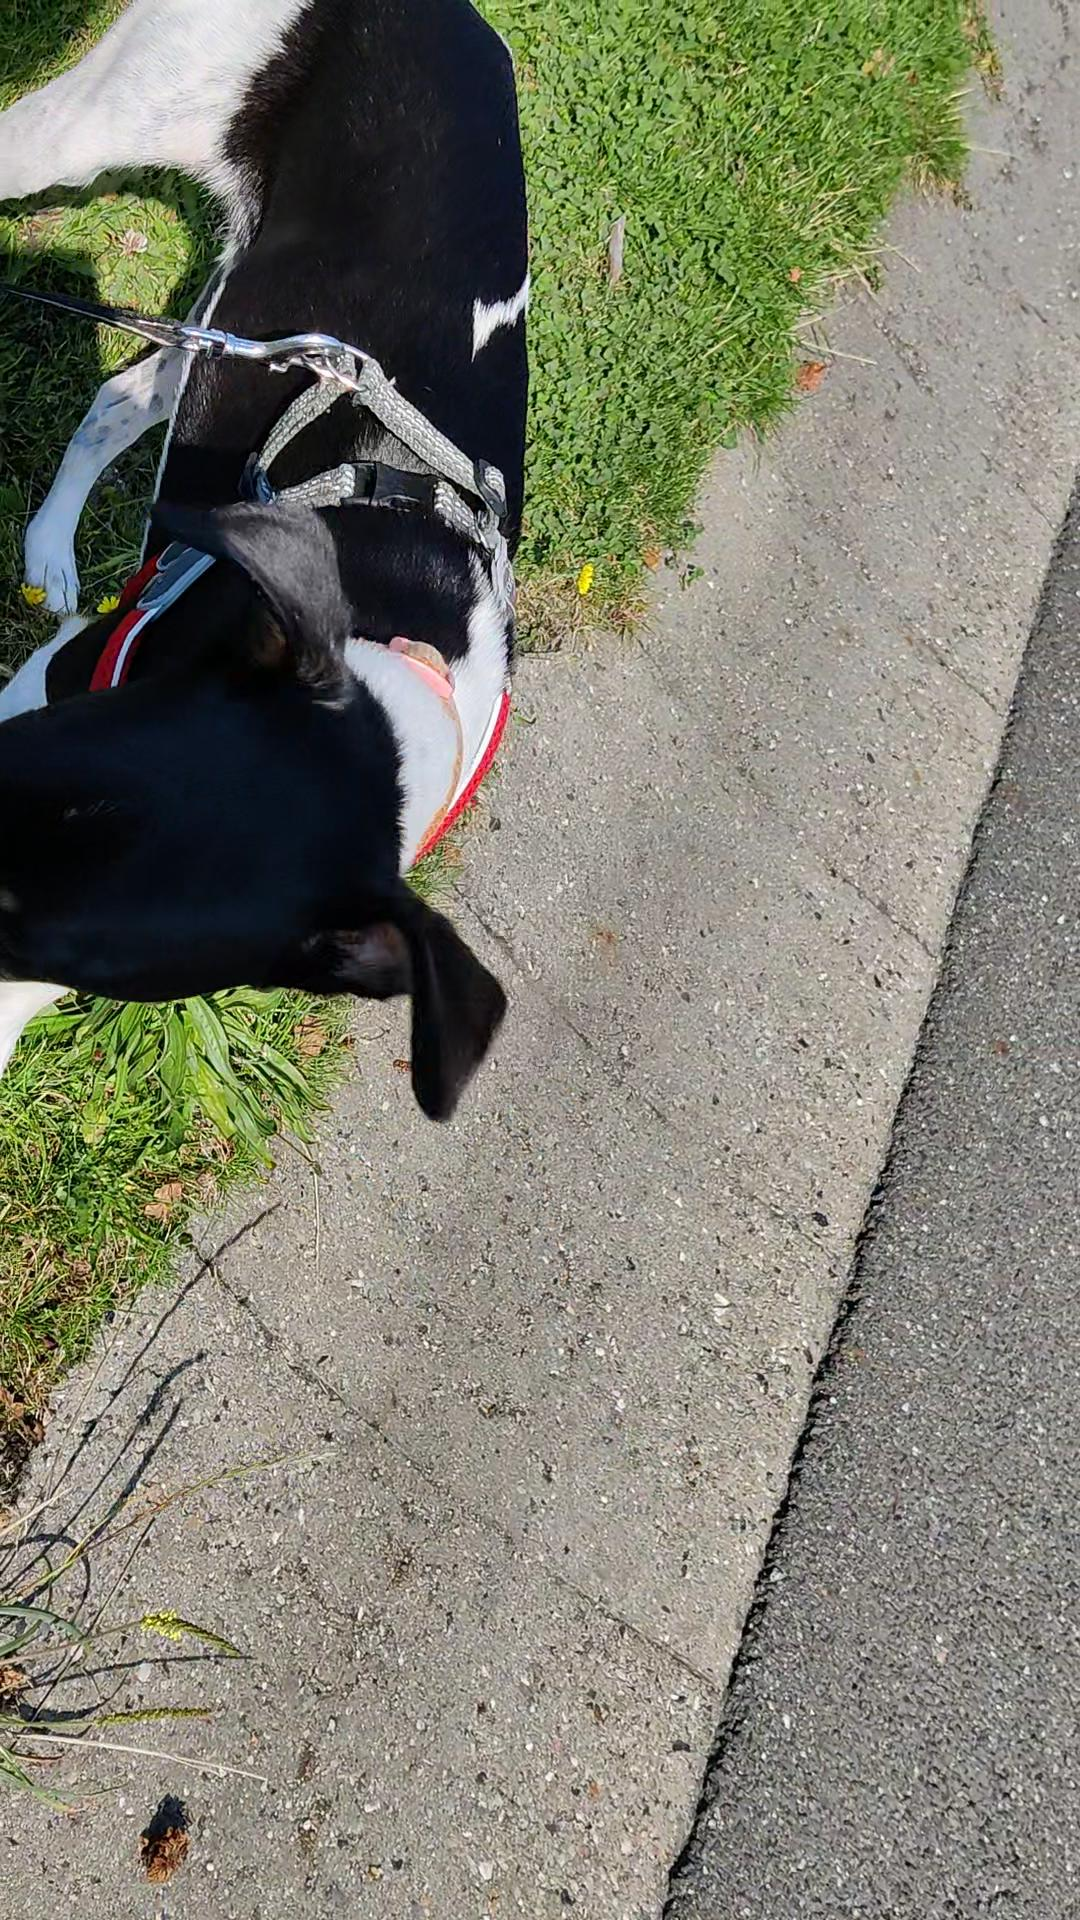Dog: (0, 0, 551, 1127)
